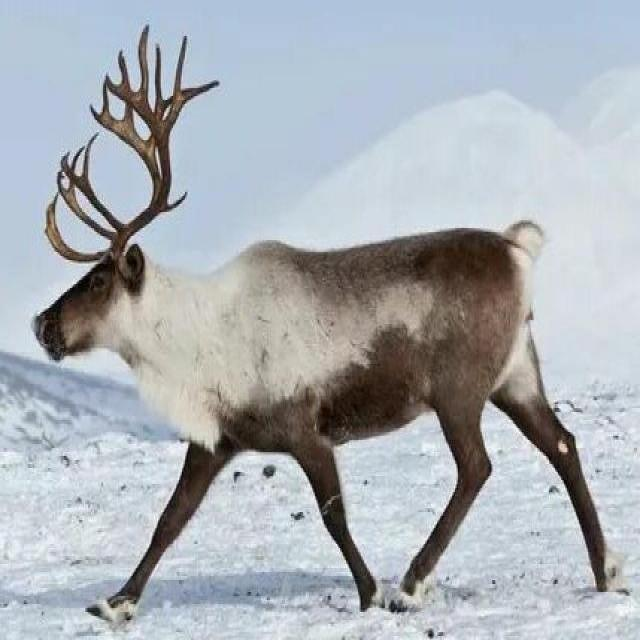deer: (22, 57, 627, 640)
